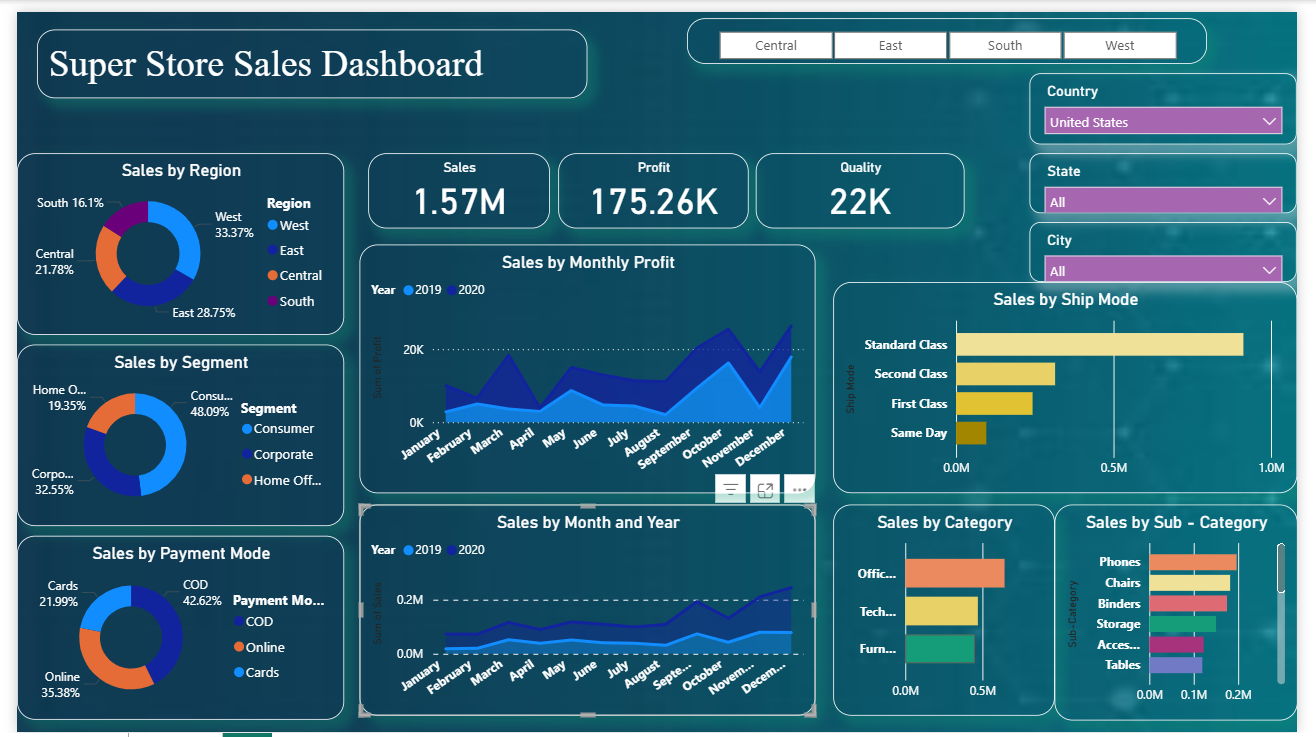

The dashboard page shown, as its layout file describes it:
{"tool":"powerbi","page":{"name":"Page 1","canvas":[1280,720],"ordinal":0},"visuals":[{"type":"barChart","title":" Sales by Category","fields":{"Category":["SuperStore_Sales_Dataset.Category"],"Y":["Sum(SuperStore_Sales_Dataset.Sales)"]},"box":[815.7,492.9,221.4,211.4],"z":0},{"type":"barChart","title":" Sales by Sub - Category","fields":{"Category":["SuperStore_Sales_Dataset.Sub-Category"],"Y":["Sum(SuperStore_Sales_Dataset.Sales)"]},"box":[1037.1,492.9,242.9,215.7],"z":1000},{"type":"stackedAreaChart","title":"Sales by Month and Year","fields":{"Y":["Sum(SuperStore_Sales_Dataset.Sales)"],"Category":["SuperStore_Sales_Dataset.Order Date.Variation.Date Hierarchy.Month"],"Series":["SuperStore_Sales_Dataset.Order Date.Variation.Date Hierarchy.Year"]},"box":[342.5,492.5,456.2,211.2],"z":2000},{"type":"stackedAreaChart","title":"Sales by Monthly Profit","fields":{"Y":["Sum(SuperStore_Sales_Dataset.Profit)"],"Category":["SuperStore_Sales_Dataset.Order Date.Variation.Date Hierarchy.Month"],"Series":["SuperStore_Sales_Dataset.Order Date.Variation.Date Hierarchy.Year"]},"box":[342.5,232.5,456.2,248.8],"z":3000},{"type":"donutChart","title":" Sales by Segment","fields":{"Category":["SuperStore_Sales_Dataset.Segment"],"Y":["Sum(SuperStore_Sales_Dataset.Sales)"]},"box":[0,332.9,327.1,181.4],"z":4000},{"type":"donutChart","title":" Sales by Payment Mode","fields":{"Category":["SuperStore_Sales_Dataset.Payment Mode"],"Y":["Sum(SuperStore_Sales_Dataset.Sales)"],"Series":["SuperStore_Sales_Dataset.Payment Mode"]},"box":[0,524.3,327.1,184.3],"z":5000},{"type":"donutChart","title":" Sales by Region","fields":{"Category":["SuperStore_Sales_Dataset.Region"],"Y":["Sum(SuperStore_Sales_Dataset.Sales)"]},"box":[0,141.4,327.1,181.4],"z":6000},{"type":"slicer","fields":{"Values":["SuperStore_Sales_Dataset.Region"]},"box":[670,5.7,520,45.7],"z":7000},{"type":"textbox","box":[20,17.1,550,68.6],"z":8000},{"type":"barChart","title":" Sales by Ship Mode","fields":{"Category":["SuperStore_Sales_Dataset.Ship Mode"],"Y":["Sum(SuperStore_Sales_Dataset.Sales)"]},"box":[816.2,270,463.8,211.2],"z":9000},{"type":"card","title":"Sales","fields":{"Values":["Sum(SuperStore_Sales_Dataset.Sales)"]},"box":[351.2,141.2,181.2,75],"z":10000},{"type":"card","title":"Profit","fields":{"Values":["Sum(SuperStore_Sales_Dataset.Profit)"]},"box":[541.2,141.2,190,75],"z":11000},{"type":"card","title":"Quality","fields":{"Values":["Sum(SuperStore_Sales_Dataset.Quantity)"]},"box":[738.8,141.2,208.8,75],"z":12000},{"type":"slicer","fields":{"Values":["SuperStore_Sales_Dataset.Country"]},"box":[1012.5,61.2,267.5,71.2],"z":13000},{"type":"slicer","fields":{"Values":["SuperStore_Sales_Dataset.City"]},"box":[1012.5,210,267.5,60],"z":14000},{"type":"slicer","fields":{"Values":["SuperStore_Sales_Dataset.State"]},"box":[1012.5,141.2,267.5,60],"z":15000}]}

Visuals, with their boxes in screenshot pixels (x1, y1, x2, y2), scaled from the page's 1280x720 canvas onto the 1316x737 screenshot:
" Sales by Category" barChart: <region>839, 505, 1066, 721</region>
" Sales by Sub - Category" barChart: <region>1066, 505, 1315, 725</region>
"Sales by Month and Year" stackedAreaChart: <region>352, 504, 821, 720</region>
"Sales by Monthly Profit" stackedAreaChart: <region>352, 238, 821, 493</region>
" Sales by Segment" donutChart: <region>0, 341, 336, 526</region>
" Sales by Payment Mode" donutChart: <region>0, 537, 336, 725</region>
" Sales by Region" donutChart: <region>0, 145, 336, 330</region>
slicer - SuperStore_Sales_Dataset.Region: <region>689, 6, 1223, 53</region>
textbox: <region>21, 18, 586, 88</region>
" Sales by Ship Mode" barChart: <region>839, 276, 1315, 493</region>
"Sales" card: <region>361, 145, 547, 221</region>
"Profit" card: <region>556, 145, 752, 221</region>
"Quality" card: <region>760, 145, 974, 221</region>
slicer - SuperStore_Sales_Dataset.Country: <region>1041, 63, 1315, 136</region>
slicer - SuperStore_Sales_Dataset.City: <region>1041, 215, 1315, 276</region>
slicer - SuperStore_Sales_Dataset.State: <region>1041, 145, 1315, 206</region>
